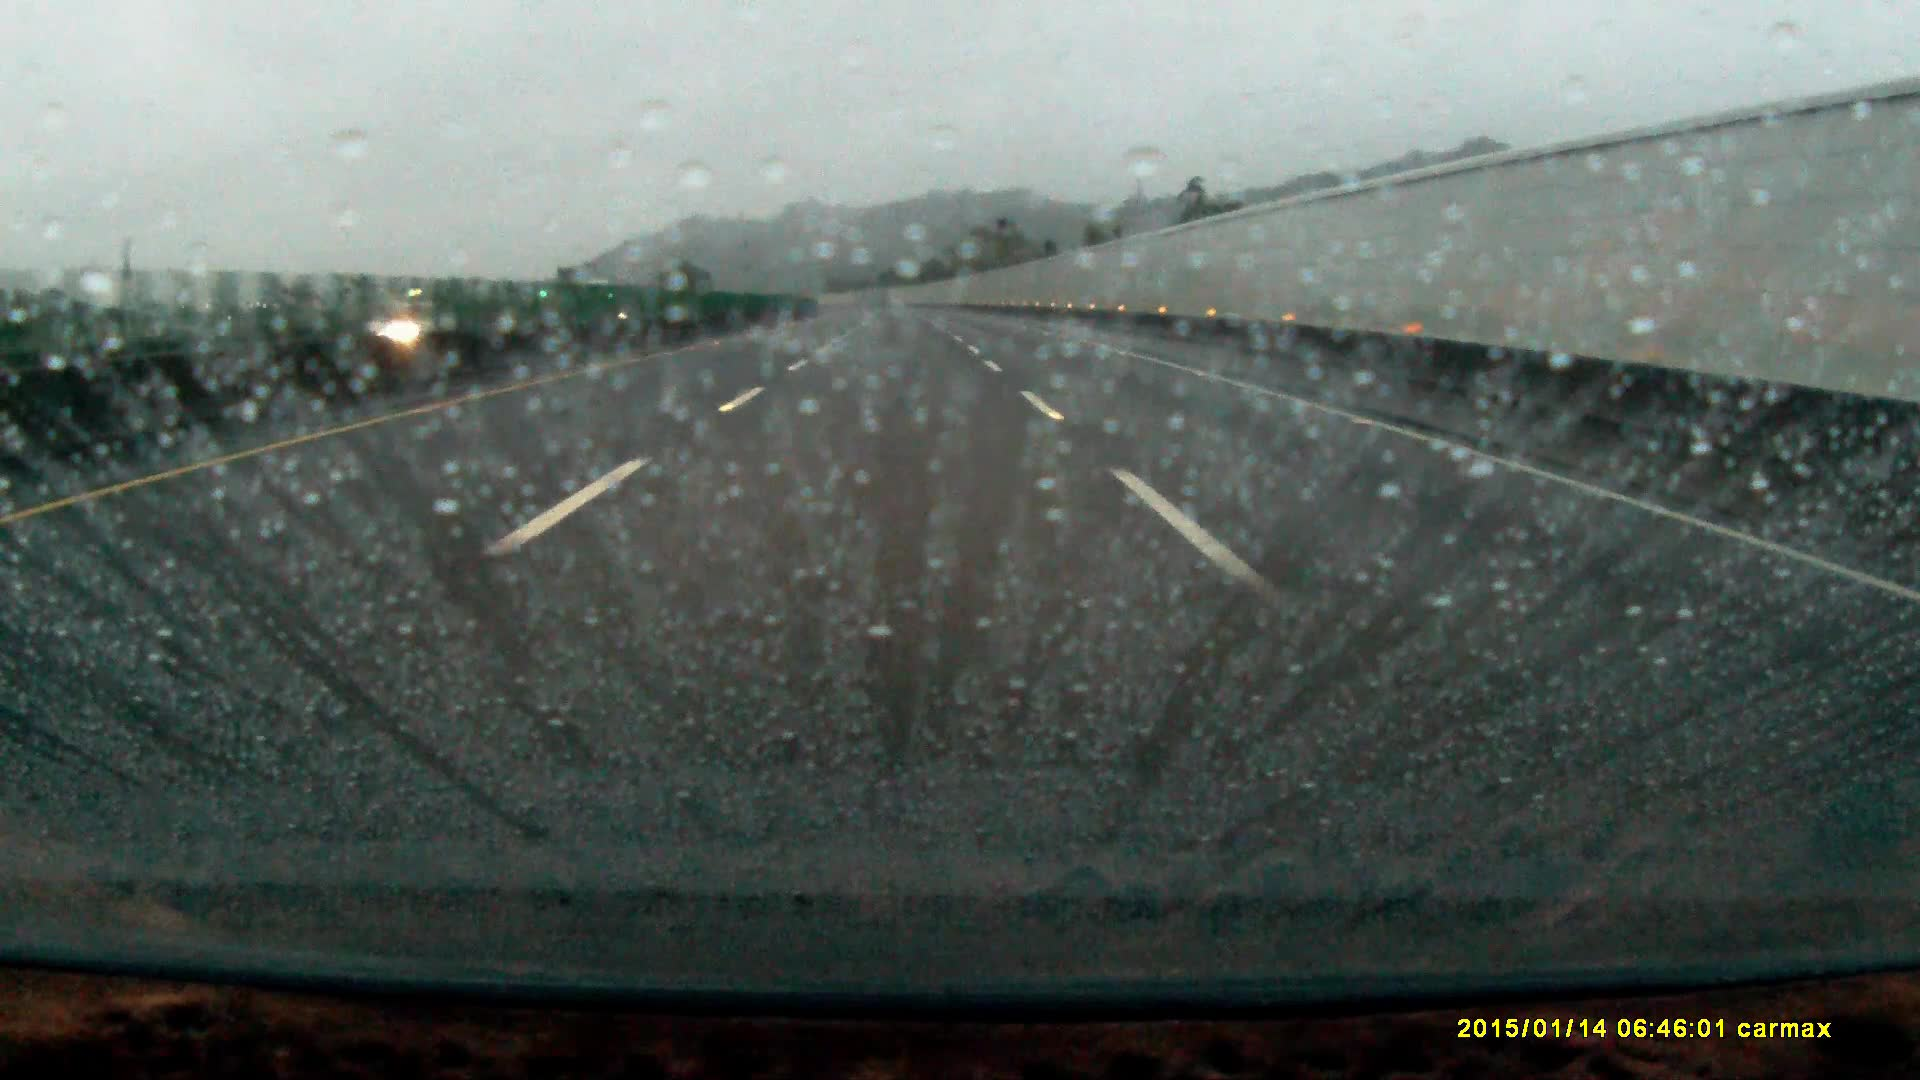vehicle: (349, 295, 458, 356)
